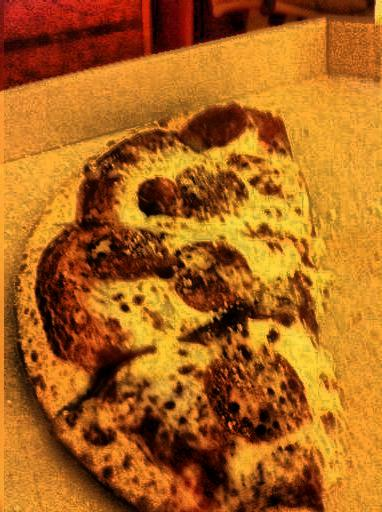pizza: (23, 73, 339, 508)
